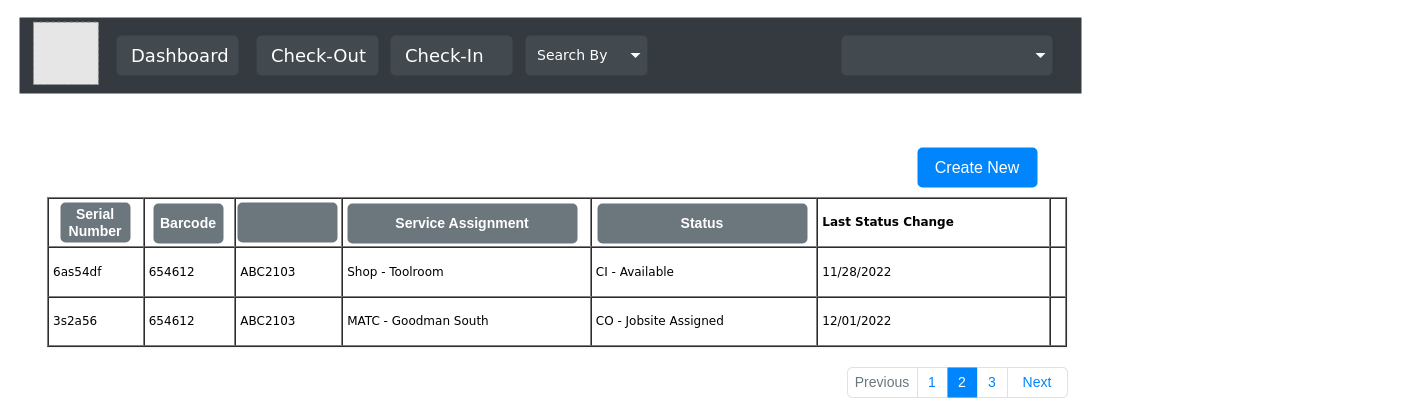
This 1422x415 diagram has some shape labels left out. Grey dashed boxes stand in for pictures. Each missing label, with the box of its shape:
${user.displayName}: (841, 35, 1052, 75)
Part Number: (237, 202, 337, 242)
